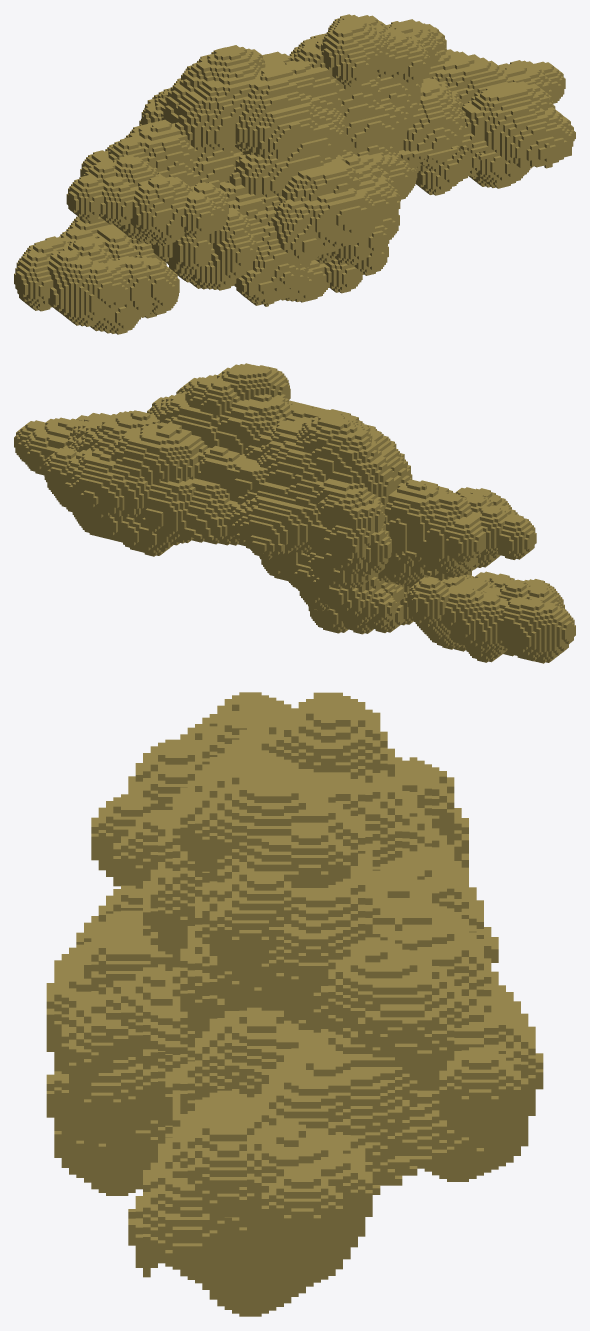
The model's file is forest1.2-43.obj.
The picture shows the model from 3 angles, top to bottom: view 1: azimuth 30°, elevation 25°; view 2: azimuth 150°, elevation 25°; view 3: azimuth 270°, elevation 25°; orthographic projection. The views are drawn at different scales.
Size of the model in its own units: 17 by 7.1 by 6.7.
1 material, 1 textured.
